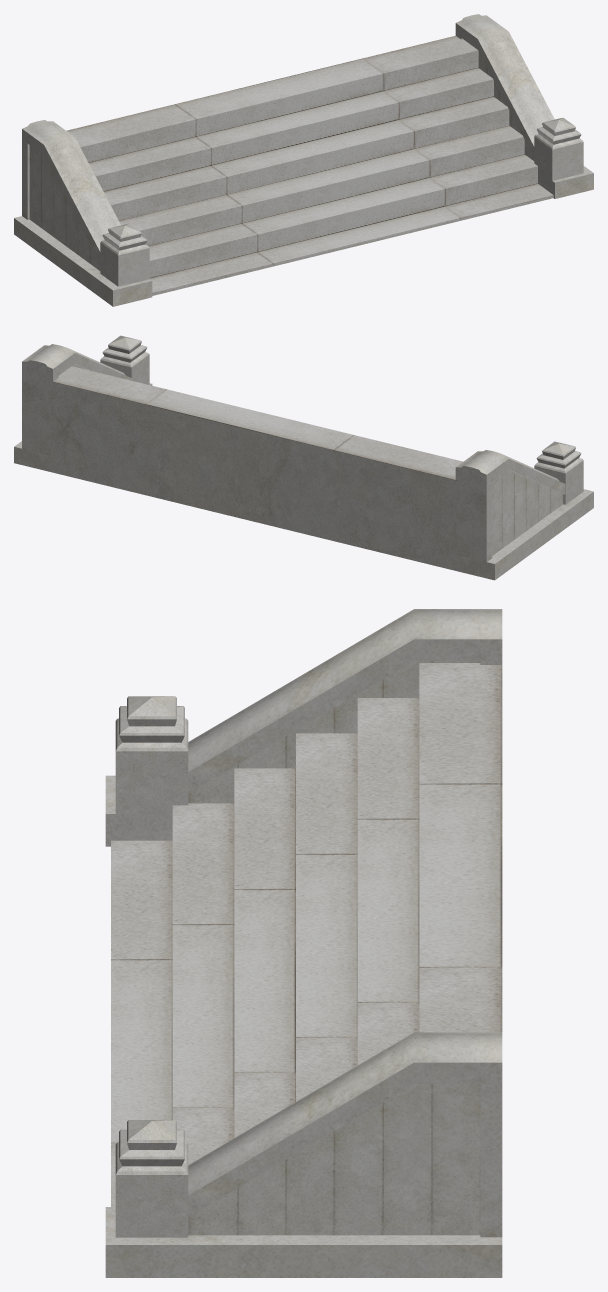
File: SM_Sun_Dae_Stair.fbx
3 views of the same model, one above another, from view 1: azimuth 30°, elevation 25°; view 2: azimuth 150°, elevation 25°; view 3: azimuth 270°, elevation 25° (orthographic). The views are drawn at different scales.
Parts seen in each view (by area): view 1: SM_Sun_Dae_Stair; view 2: SM_Sun_Dae_Stair; view 3: SM_Sun_Dae_Stair.
Part boxes in pixels (left/top/right/bottom): SM_Sun_Dae_Stair: left=14, top=14, right=593, bottom=306; SM_Sun_Dae_Stair: left=14, top=335, right=593, bottom=580; SM_Sun_Dae_Stair: left=105, top=609, right=502, bottom=1277.
Size of the model in its own units: 552 by 118 by 197.
